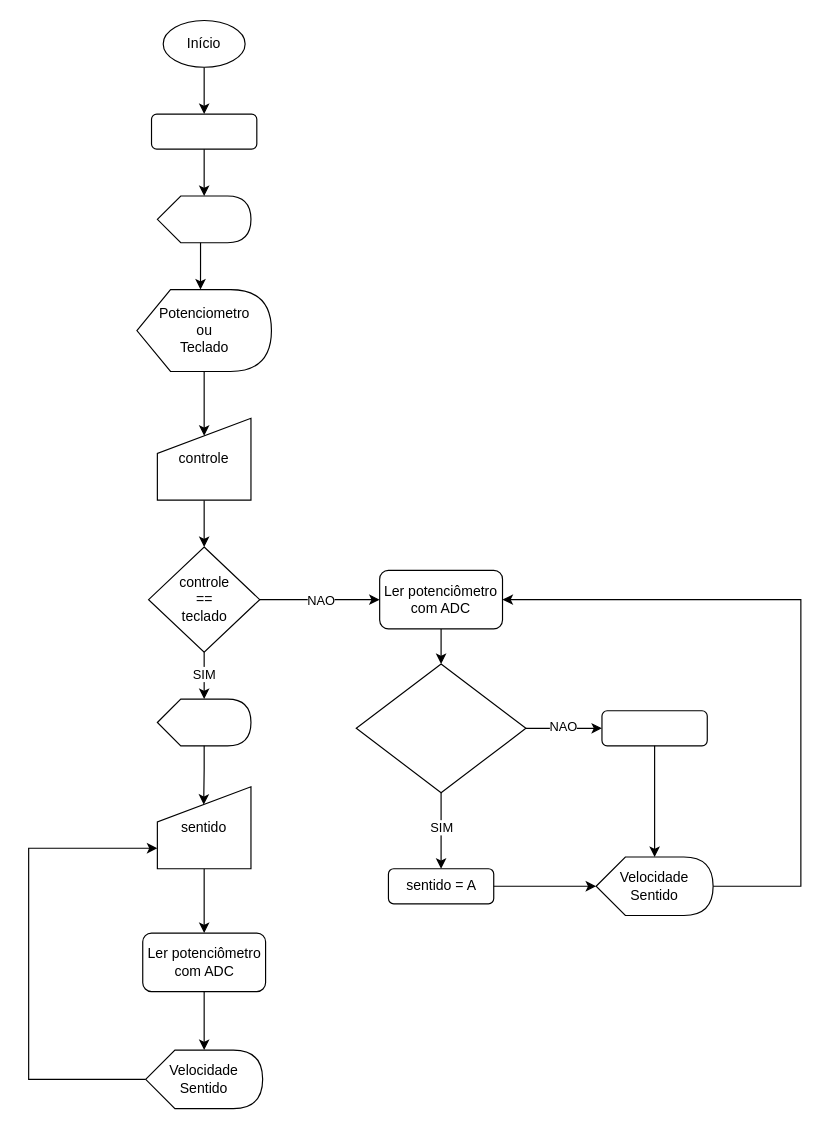
The diagram is 831 pixels wide and 1129 high, and some of its shapes have lost their labels. Each missing label, with the centre of its shape:
MOTOR PARADO: the point at 203,219
potenc > 0 && potenc <= 1.65: the point at 440,728
Selecione Sentido: the point at 203,722
sentido = H: the point at 654,728
veloc = 0: the point at 203,131
